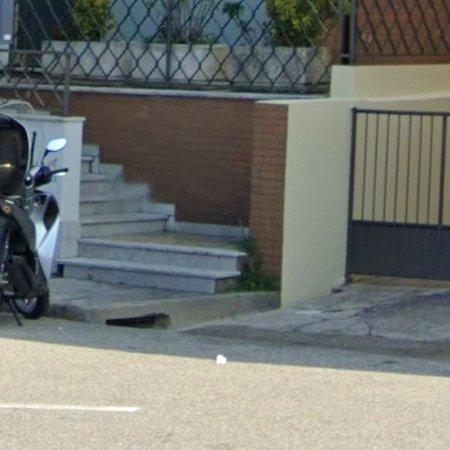stairs: (60, 145, 248, 294)
